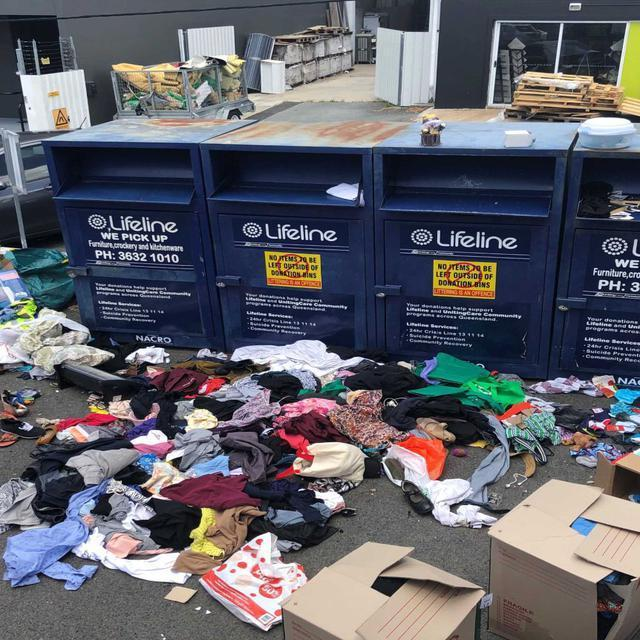garbage: (92, 332, 639, 639), (0, 231, 87, 608), (100, 37, 256, 109), (500, 59, 639, 128), (580, 186, 640, 228)
